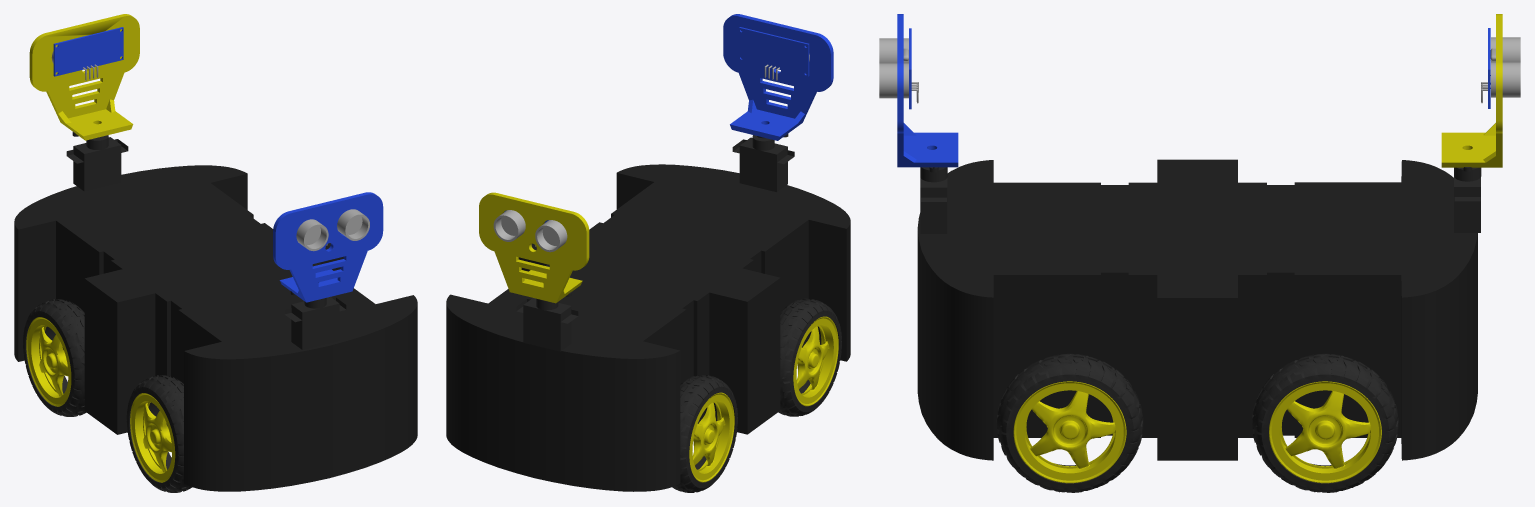
The model's file is robot-4th-project.glb.
The picture shows the model from 3 angles, left to right: view 1: azimuth 30°, elevation 25°; view 2: azimuth 150°, elevation 25°; view 3: azimuth 270°, elevation 25°; orthographic projection. The views are drawn at different scales.
Parts seen in each view (by area): view 1: Body, Ultrasonic_R, Ultrasonic_F, Wheel_Tire_RR, Wheel_Tire_FR, Wheel_Mag_RR, Wheel_Mag_FR; view 2: Body, Ultrasonic_F, Ultrasonic_R, Wheel_Tire_FR, Wheel_Tire_RR, Wheel_Mag_FR, Wheel_Mag_RR; view 3: Body, Wheel_Tire_FL, Wheel_Tire_RL, Wheel_Mag_FL, Wheel_Mag_RL, Ultrasonic_R, Ultrasonic_F.
Boxes of the visible parts, left/top/right/bottom form: Body: left=14, top=135, right=417, bottom=491; Ultrasonic_R: left=29, top=14, right=139, bottom=140; Ultrasonic_F: left=273, top=192, right=383, bottom=302; Wheel_Tire_RR: left=23, top=299, right=86, bottom=416; Wheel_Tire_FR: left=126, top=375, right=192, bottom=492; Wheel_Mag_RR: left=26, top=317, right=71, bottom=406; Wheel_Mag_FR: left=130, top=393, right=175, bottom=482; Body: left=446, top=133, right=850, bottom=491; Ultrasonic_F: left=723, top=14, right=833, bottom=140; Ultrasonic_R: left=479, top=192, right=589, bottom=303; Wheel_Tire_FR: left=778, top=298, right=841, bottom=416; Wheel_Tire_RR: left=672, top=375, right=737, bottom=492; Wheel_Mag_FR: left=793, top=316, right=838, bottom=406; Wheel_Mag_RR: left=689, top=392, right=734, bottom=482; Body: left=917, top=159, right=1481, bottom=460; Wheel_Tire_FL: left=996, top=353, right=1143, bottom=492; Wheel_Tire_RL: left=1252, top=353, right=1398, bottom=492; Wheel_Mag_FL: left=1013, top=381, right=1126, bottom=483; Wheel_Mag_RL: left=1269, top=381, right=1381, bottom=483; Ultrasonic_R: left=1441, top=14, right=1520, bottom=171; Ultrasonic_F: left=879, top=14, right=958, bottom=167.
Size of what is drawn, in the model's own units: 0.3013 by 0.3902 by 0.5883.
